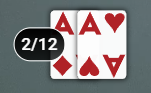a: (49, 9, 76, 39), (77, 10, 103, 38)
